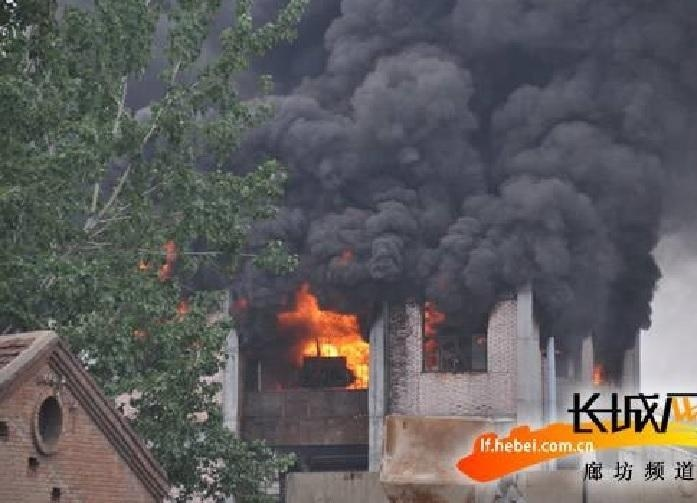fire: (283, 287, 374, 387)
